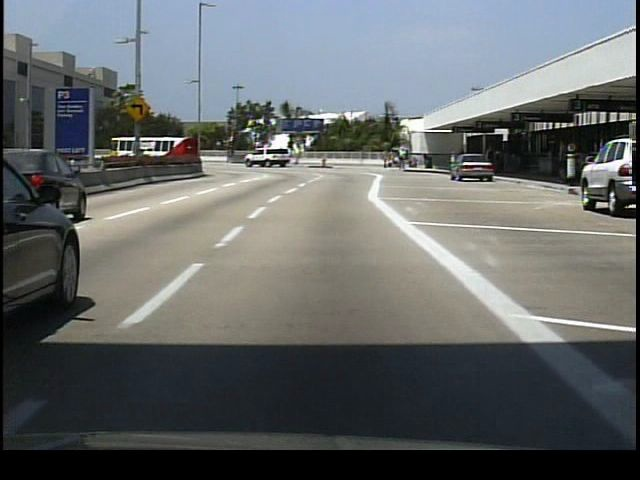person: (485, 149, 501, 182), (397, 144, 407, 174), (381, 147, 389, 171)
